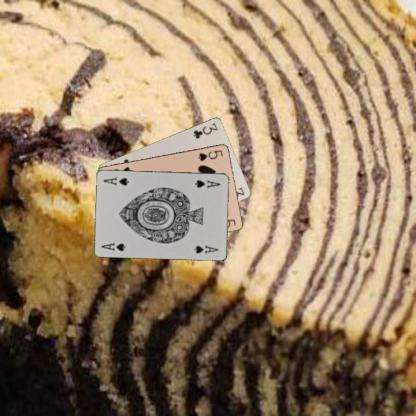3c: (191, 120, 219, 140)
5s: (196, 148, 224, 162)
As: (192, 177, 222, 189), (99, 240, 127, 252)
